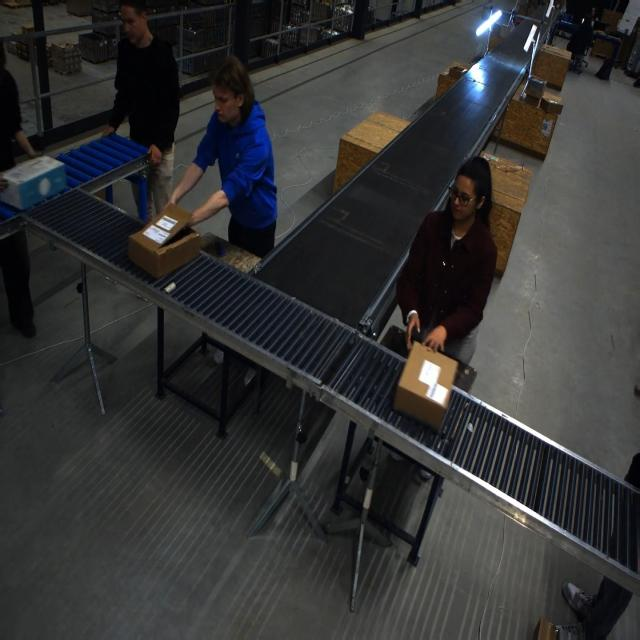box: (392, 340, 456, 429), (127, 203, 201, 277), (1, 156, 68, 210), (521, 76, 546, 103), (540, 92, 564, 115)
